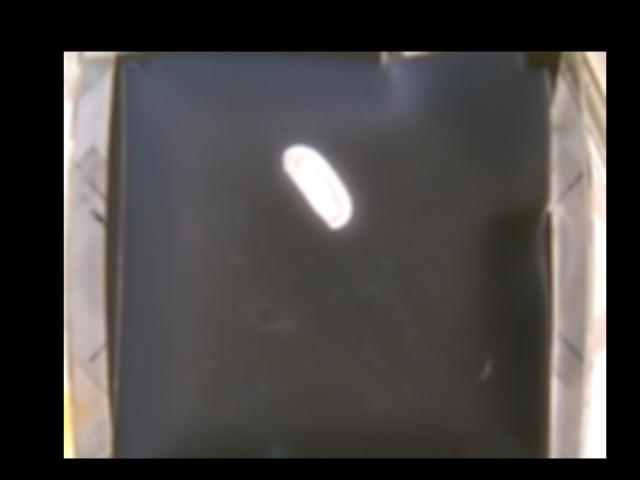Pebble: (280, 146, 351, 231)
